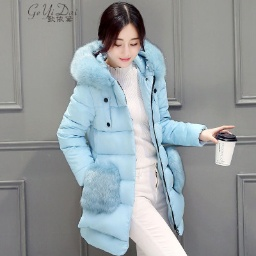face: (95, 2, 148, 69)
